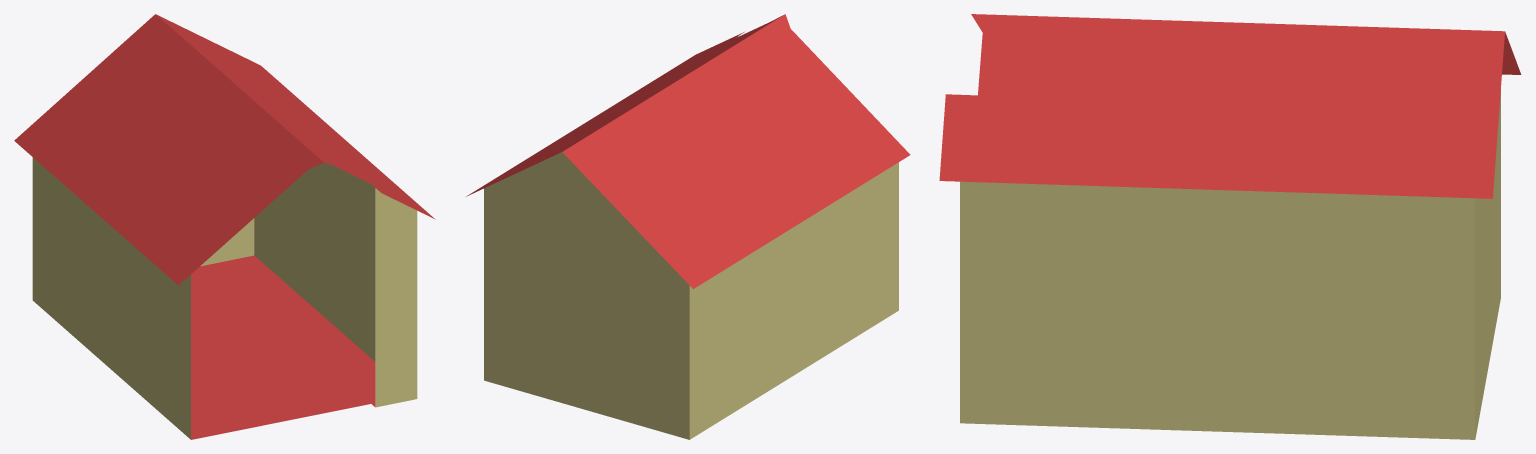
3 renders of one model, left to right at view 1: azimuth 30°, elevation 25°; view 2: azimuth 150°, elevation 25°; view 3: azimuth 270°, elevation 25°, orthographic. The views are drawn at different scales.
Bounding box in the file's own units: 10.85 × 15.25 × 10.11.
